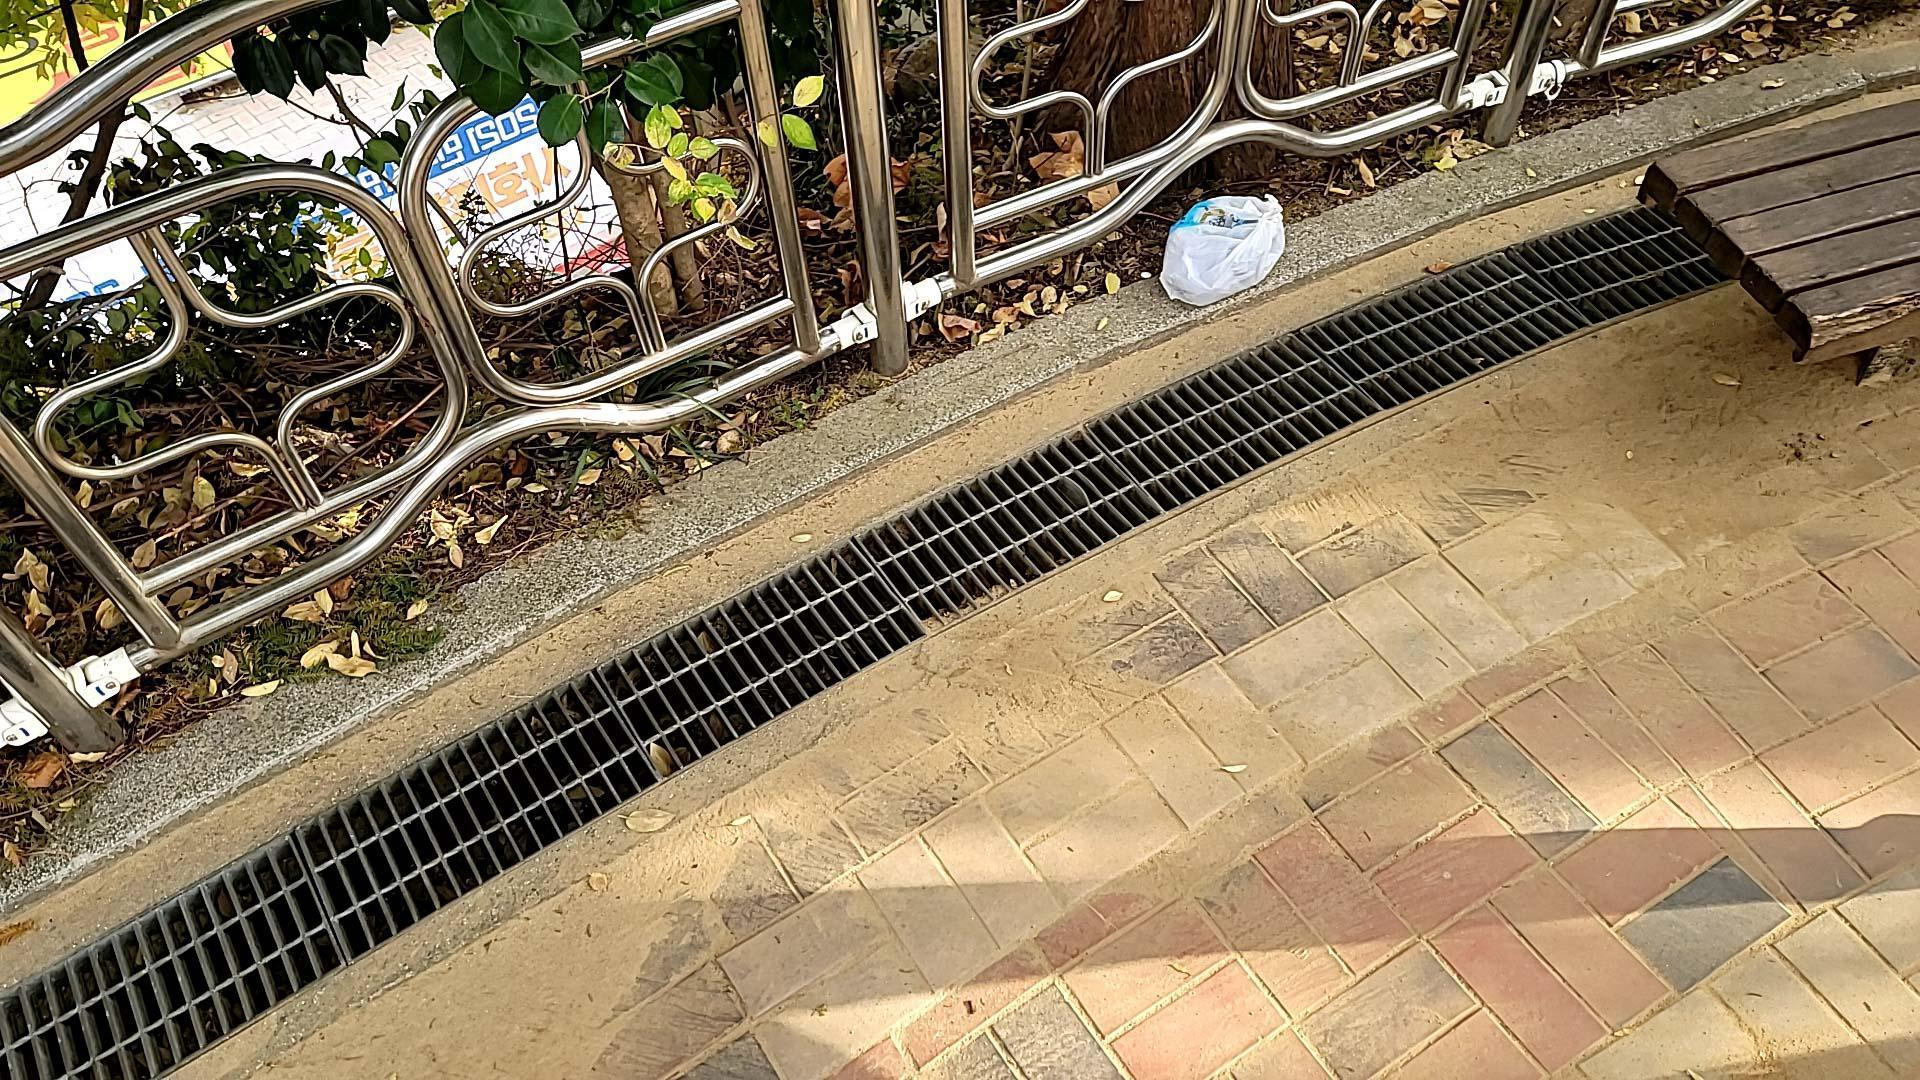white_bag: (1154, 190, 1294, 313)
